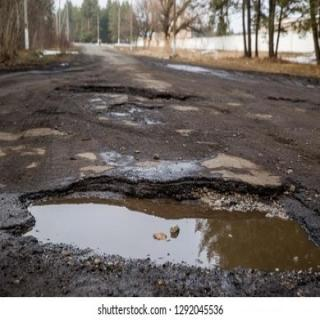pothole: (8, 176, 320, 274), (68, 84, 192, 101), (110, 101, 163, 113), (269, 96, 315, 104)
